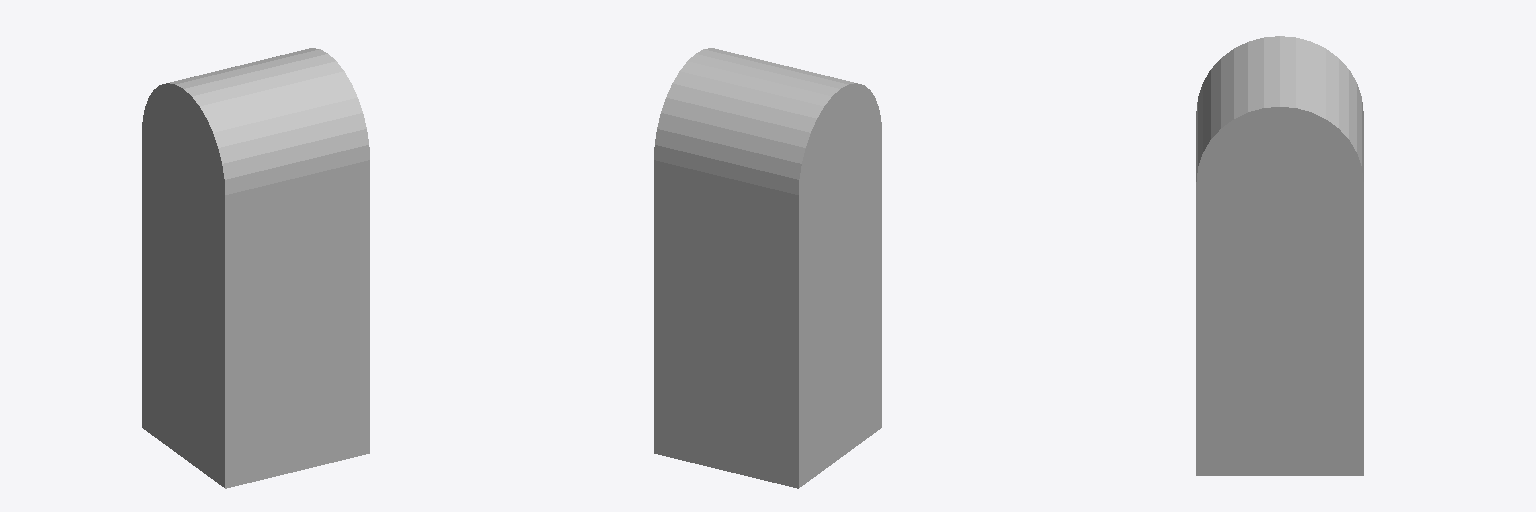
The model's file is body_r_dist_pinvround_collision.obj.
3 views of the same model, side by side, from view 1: azimuth 30°, elevation 25°; view 2: azimuth 150°, elevation 25°; view 3: azimuth 270°, elevation 25° (orthographic).
Parts seen in each view (by area): view 1: body_r_dist_pinvround_collision_Cube.670; view 2: body_r_dist_pinvround_collision_Cube.670; view 3: body_r_dist_pinvround_collision_Cube.670.
Boxes of the visible parts, x1=… form: body_r_dist_pinvround_collision_Cube.670: x1=142, y1=48, x2=369, y2=488; body_r_dist_pinvround_collision_Cube.670: x1=654, y1=48, x2=881, y2=488; body_r_dist_pinvround_collision_Cube.670: x1=1196, y1=36, x2=1363, y2=475.
Size of the model in its own units: 0.02 by 0.0487 by 0.02.